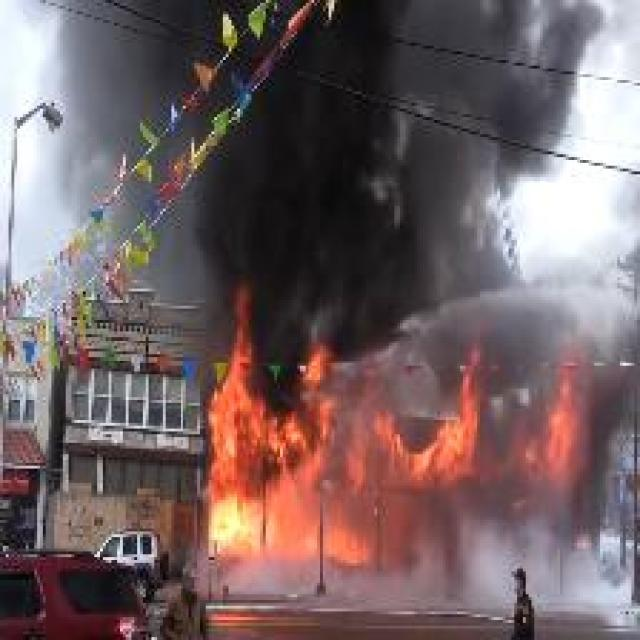Fire: (205, 302, 600, 566)
Smoke: (178, 14, 547, 280)
